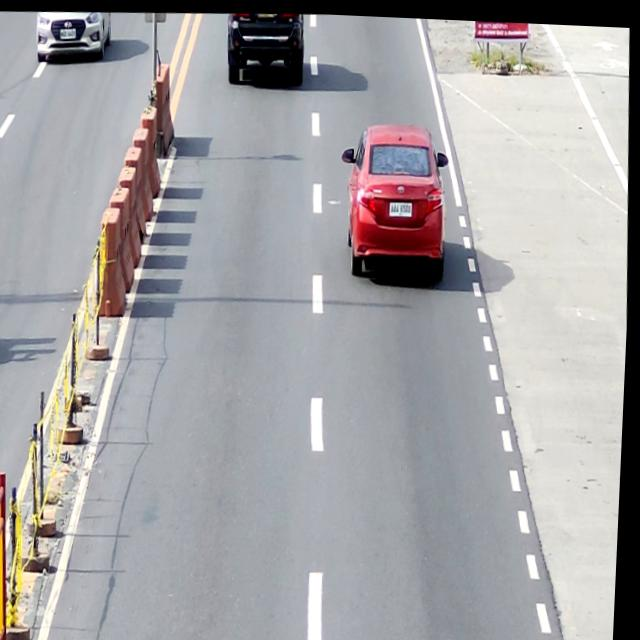Car: (337, 116, 455, 280), (224, 8, 306, 85), (34, 8, 112, 64)
License-Plate: (389, 195, 415, 214), (58, 23, 78, 46)
